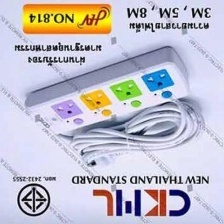three_eye_plug: (22, 41, 193, 140)
